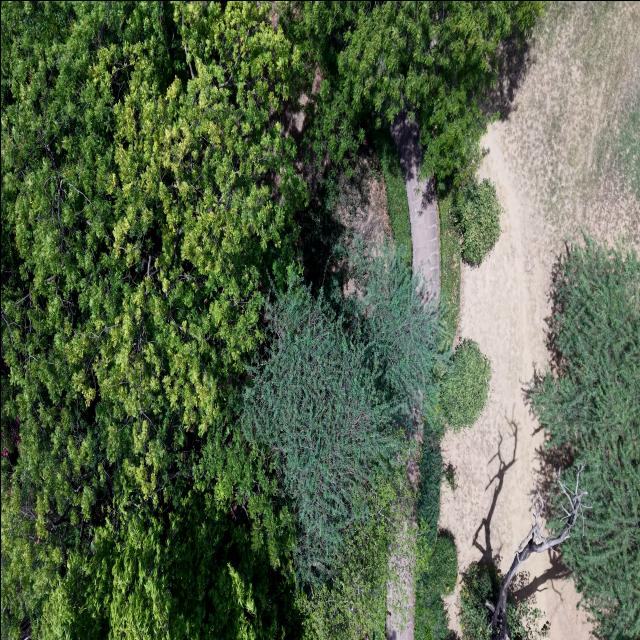DRY_AREA: (439, 1, 639, 573), (390, 114, 439, 306), (390, 113, 439, 304), (391, 114, 439, 306), (391, 114, 439, 305), (334, 151, 390, 248)
VEGETATION_TREE: (1, 1, 542, 639), (1, 1, 304, 638), (241, 246, 440, 638), (281, 1, 547, 188), (241, 281, 403, 586), (529, 238, 639, 638), (414, 340, 490, 639), (296, 468, 411, 639), (482, 465, 590, 639), (347, 245, 445, 417), (299, 141, 389, 296), (414, 397, 456, 639), (414, 422, 456, 639), (297, 168, 361, 291), (371, 127, 411, 266), (439, 340, 490, 430), (413, 536, 456, 639), (452, 179, 500, 265), (416, 412, 442, 546), (438, 191, 460, 342), (458, 563, 501, 639), (617, 101, 639, 198), (427, 534, 456, 594), (441, 462, 457, 491)
